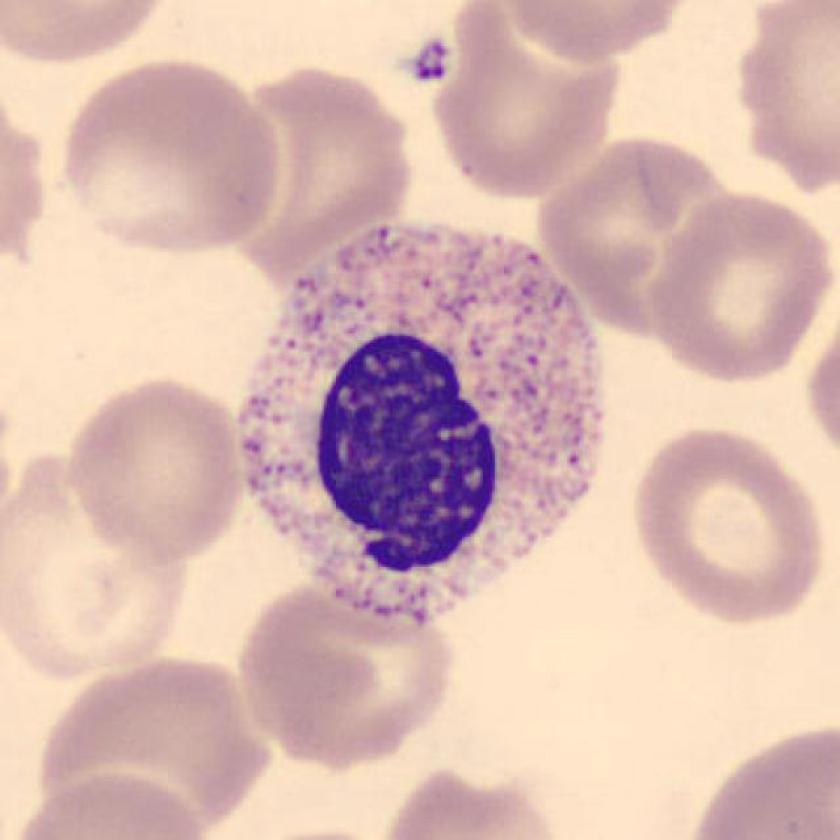neutrophil: (240, 224, 605, 627)
